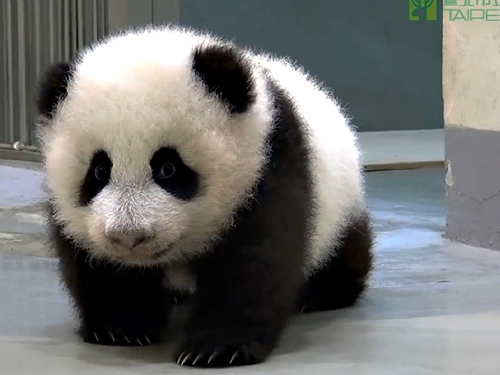panda: (34, 18, 379, 370)
